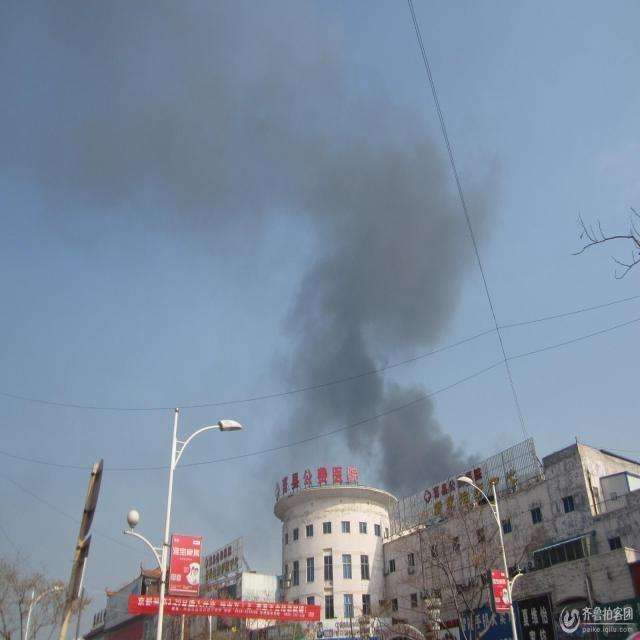Smoke: (0, 0, 506, 285), (252, 75, 484, 492), (0, 403, 284, 574)
